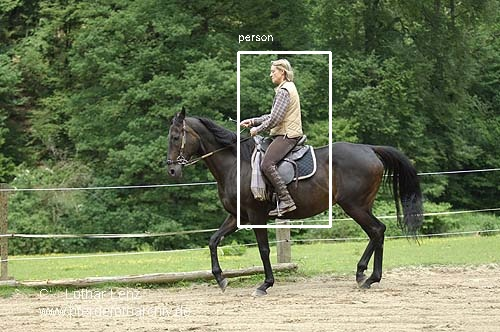horse: (157, 106, 426, 294)
person: (235, 51, 309, 222)
